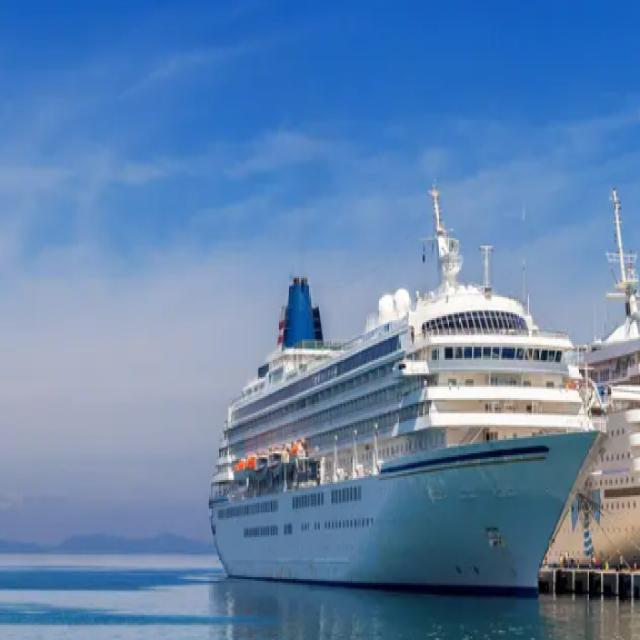passenger ship: (202, 190, 592, 594)
